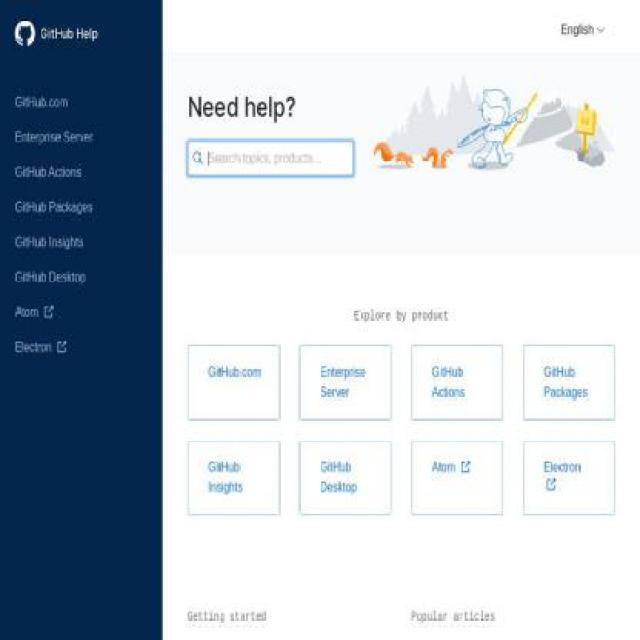button: (299, 345, 392, 420), (299, 440, 392, 515), (187, 345, 279, 420), (411, 345, 503, 420), (523, 345, 615, 420), (187, 440, 279, 515), (411, 440, 503, 515), (523, 440, 615, 515), (1, 86, 162, 119), (1, 121, 162, 154), (1, 156, 162, 189), (1, 191, 162, 224), (1, 226, 162, 259), (1, 261, 162, 294), (1, 296, 162, 329), (1, 331, 162, 364), (35, 23, 148, 43), (561, 14, 605, 46)
field: (188, 141, 354, 176)
